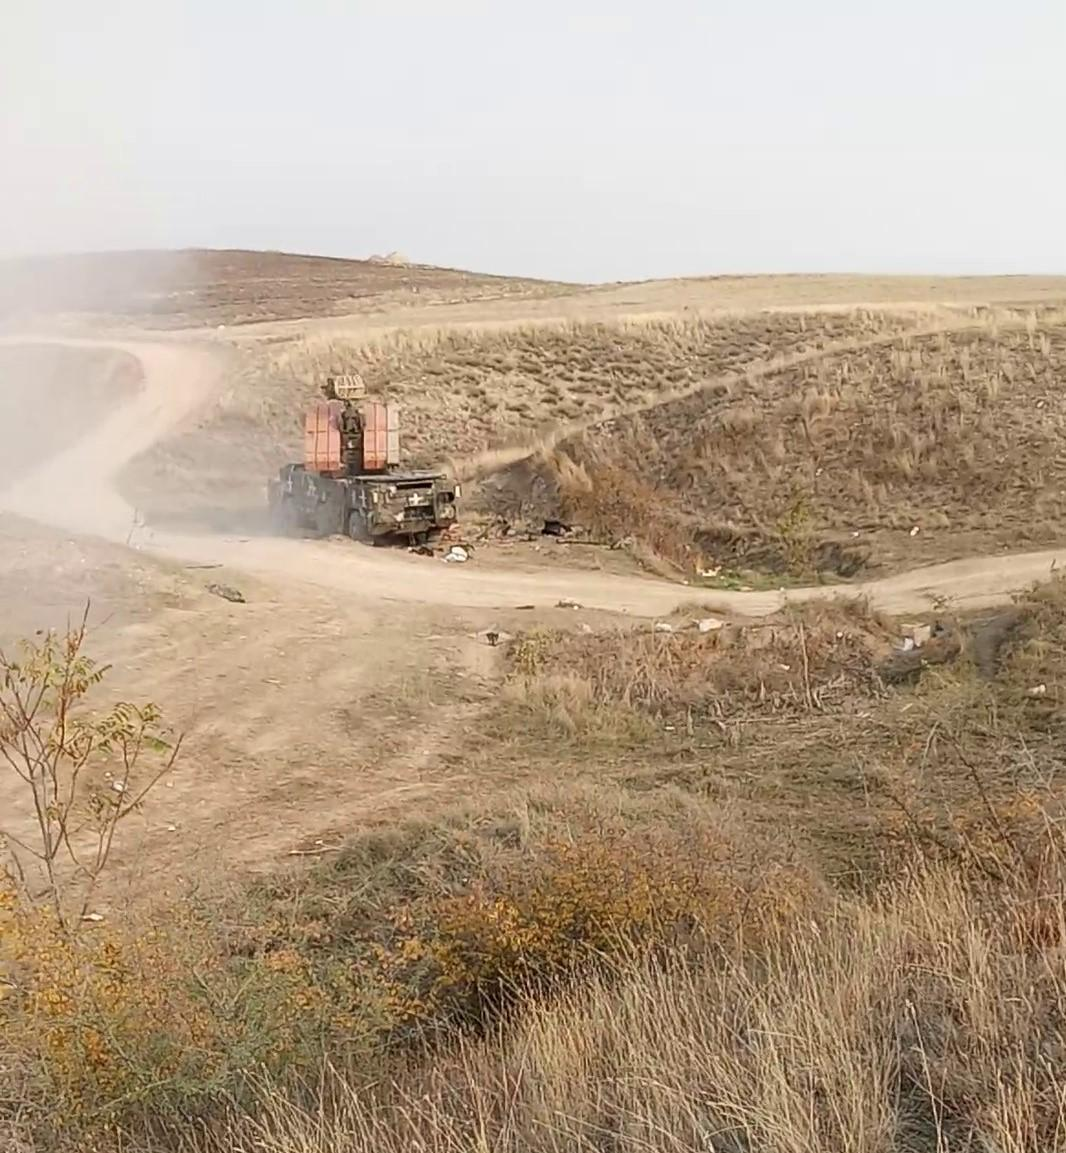MIL_SAM_TEL: (268, 371, 473, 556)
